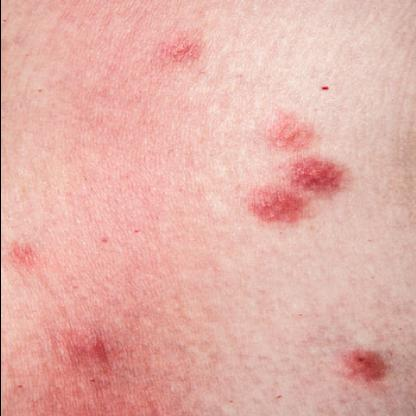Bed Bug: (239, 157, 356, 228), (46, 326, 118, 382), (326, 340, 392, 388), (263, 105, 321, 155), (157, 32, 200, 66), (3, 237, 40, 273)
